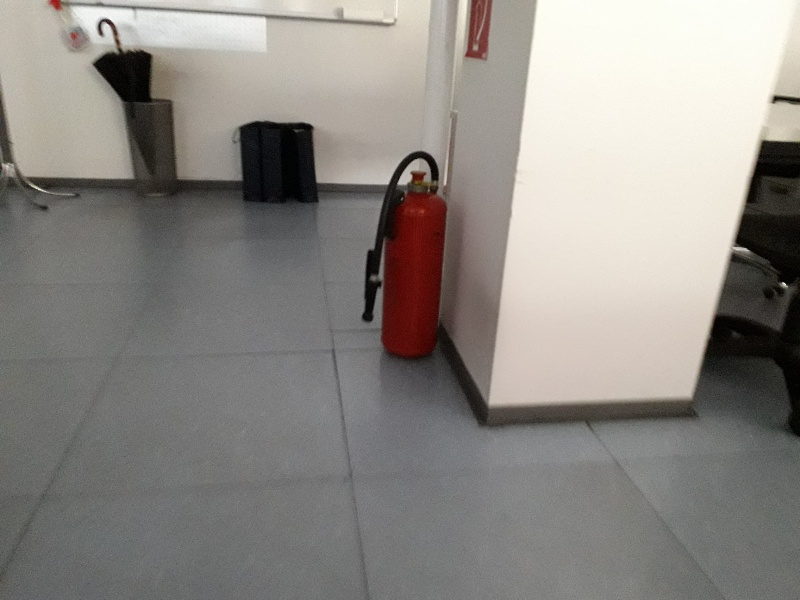vataparat: (362, 150, 447, 358)
